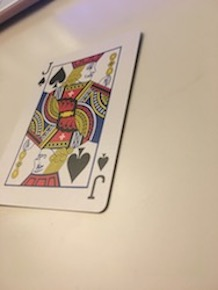JackOfSpades: (1, 24, 146, 215)
